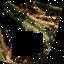Purslane: (0, 0, 33, 61)
